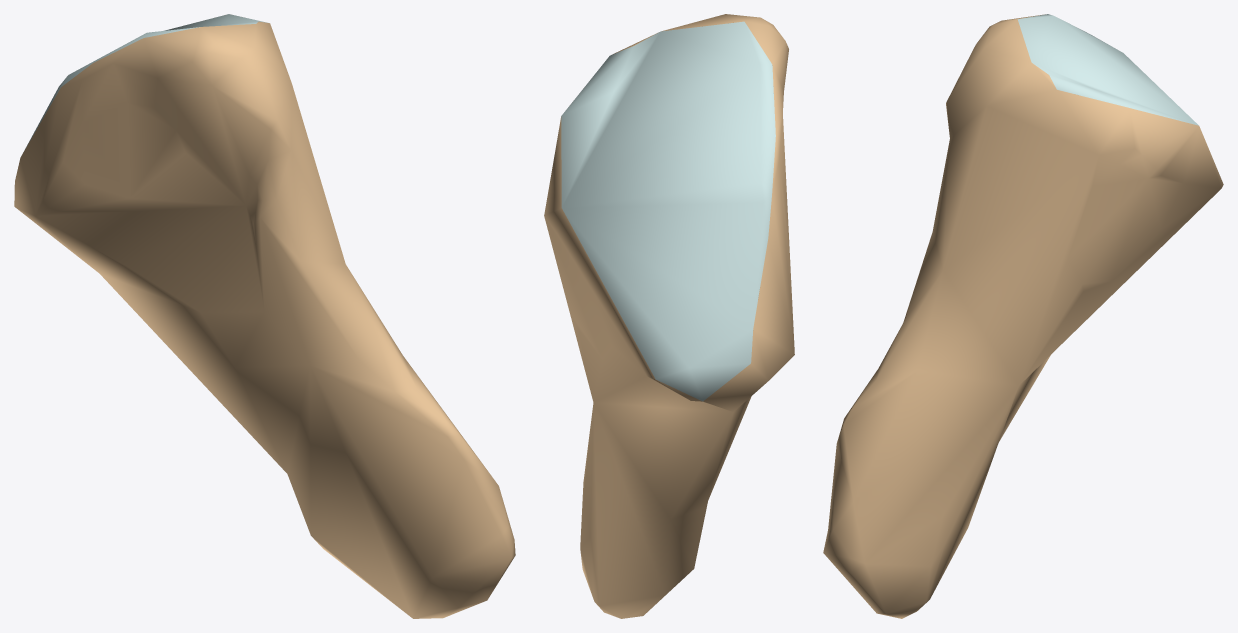
File: Distal_phalanx_first_finger_left.glb
3 views of the same model, side by side, from view 1: azimuth 30°, elevation 25°; view 2: azimuth 150°, elevation 25°; view 3: azimuth 270°, elevation 25° (orthographic). The views are drawn at different scales.
Parts seen in each view (by area): view 1: Distal_phalanx_of_1st_finger.l_Generated_Mesh_From_X3D.735; view 2: Distal_phalanx_of_1st_finger.l_Generated_Mesh_From_X3D.735; view 3: Distal_phalanx_of_1st_finger.l_Generated_Mesh_From_X3D.735.
Part boxes in pixels (x1,y1,x2,y2): Distal_phalanx_of_1st_finger.l_Generated_Mesh_From_X3D.735: (14, 14, 515, 618); Distal_phalanx_of_1st_finger.l_Generated_Mesh_From_X3D.735: (544, 14, 794, 618); Distal_phalanx_of_1st_finger.l_Generated_Mesh_From_X3D.735: (823, 14, 1223, 618).
Bounding box in the file's own units: 0.014 × 0.0241 × 0.0168.
